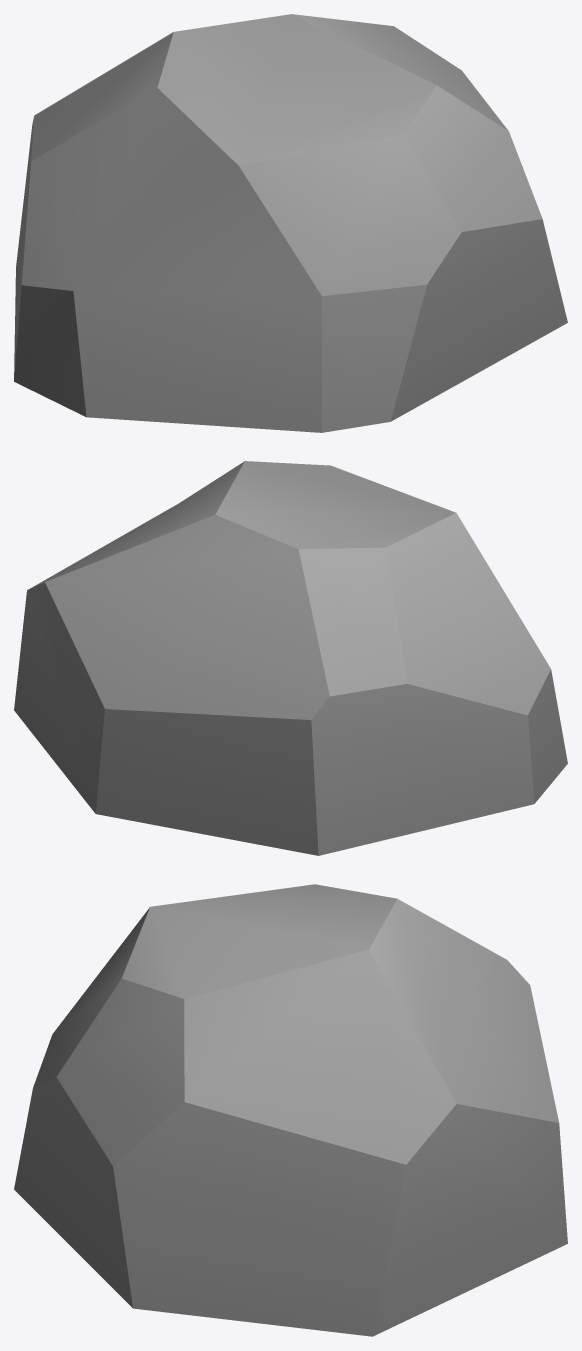
Rendered from stone small 4.fbx.
3 renders of one model, top to bottom at view 1: azimuth 30°, elevation 25°; view 2: azimuth 150°, elevation 25°; view 3: azimuth 270°, elevation 25°, orthographic. The views are drawn at different scales.
Parts seen in each view (by area): view 1: stone small 4; view 2: stone small 4; view 3: stone small 4.
Part boxes in pixels (box(x1,y1,x2,y2)): stone small 4: box(14, 14, 567, 432); stone small 4: box(14, 461, 567, 855); stone small 4: box(14, 884, 567, 1336).
Size of the model in its own units: 153 by 73.25 by 133.
